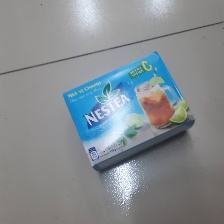Nestea: (63, 48, 195, 173)
